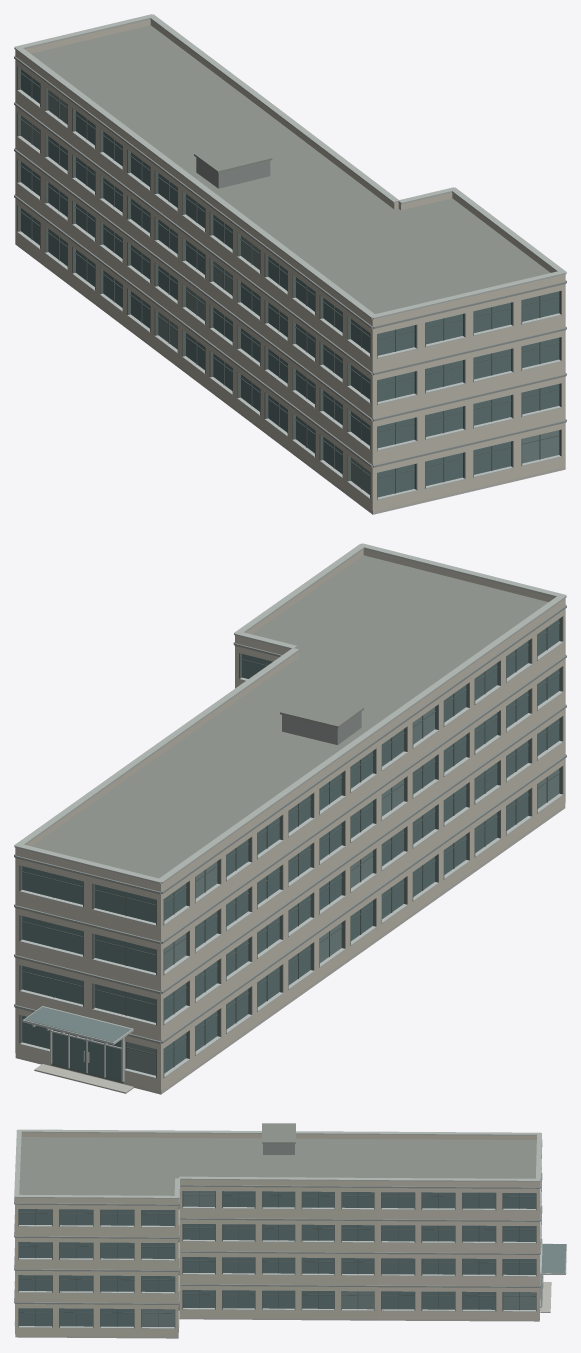
Rendered from mapped_290097998.glb.
3 renders of one model, top to bottom at view 1: azimuth 30°, elevation 25°; view 2: azimuth 150°, elevation 25°; view 3: azimuth 270°, elevation 25°, orthographic. The views are drawn at different scales.
Visible parts, largest first — view 1: mapped_290097998_ServiceWarm, mapped_290097998_FacultyRoof, mapped_290097998_WindowGlass, mapped_290097998_FacultyDarkPanel, mapped_290097998_WindowReveal, mapped_290097998_WindowAluminium, mapped_290097998_Teaching5TileJoint, mapped_290097998_WindowRubber, mapped_290097998_WindowGlassLight, mapped_290097998_EntryStone; view 2: mapped_290097998_ServiceWarm, mapped_290097998_FacultyRoof, mapped_290097998_WindowGlass, mapped_290097998_FacultyDarkPanel, mapped_290097998_WindowAluminium, mapped_290097998_Teaching5TileJoint, mapped_290097998_WindowReveal, mapped_290097998_WindowGlassLight, mapped_290097998_WindowRubber, mapped_290097998_EntryStone; view 3: mapped_290097998_ServiceWarm, mapped_290097998_WindowGlass, mapped_290097998_FacultyRoof, mapped_290097998_FacultyDarkPanel, mapped_290097998_WindowAluminium, mapped_290097998_Teaching5TileJoint, mapped_290097998_WindowRubber, mapped_290097998_WindowGlassLight, mapped_290097998_WindowReveal, mapped_290097998_EntryStone.
Part boxes in pixels (x1=…): mapped_290097998_ServiceWarm: x1=15, y1=19, x2=565, y2=512; mapped_290097998_FacultyRoof: x1=31, y1=25, x2=550, y2=313; mapped_290097998_WindowGlass: x1=21, y1=69, x2=559, y2=497; mapped_290097998_FacultyDarkPanel: x1=14, y1=56, x2=566, y2=467; mapped_290097998_WindowReveal: x1=17, y1=66, x2=561, y2=499; mapped_290097998_WindowAluminium: x1=17, y1=89, x2=561, y2=500; mapped_290097998_Teaching5TileJoint: x1=14, y1=14, x2=566, y2=319; mapped_290097998_WindowRubber: x1=20, y1=72, x2=559, y2=493; mapped_290097998_WindowGlassLight: x1=21, y1=90, x2=559, y2=494; mapped_290097998_EntryStone: x1=15, y1=242, x2=565, y2=514; mapped_290097998_ServiceWarm: x1=15, y1=549, x2=565, y2=1091; mapped_290097998_FacultyRoof: x1=32, y1=555, x2=548, y2=878; mapped_290097998_WindowGlass: x1=22, y1=619, x2=559, y2=1080; mapped_290097998_FacultyDarkPanel: x1=14, y1=605, x2=566, y2=1043; mapped_290097998_WindowAluminium: x1=19, y1=641, x2=563, y2=1081; mapped_290097998_Teaching5TileJoint: x1=14, y1=543, x2=566, y2=883; mapped_290097998_WindowReveal: x1=19, y1=616, x2=563, y2=1083; mapped_290097998_WindowGlassLight: x1=24, y1=707, x2=559, y2=1075; mapped_290097998_WindowRubber: x1=22, y1=622, x2=560, y2=1068; mapped_290097998_EntryStone: x1=15, y1=806, x2=565, y2=1094; mapped_290097998_ServiceWarm: x1=15, y1=1132, x2=540, y2=1336; mapped_290097998_WindowGlass: x1=19, y1=1191, x2=535, y2=1326; mapped_290097998_FacultyRoof: x1=19, y1=1123, x2=536, y2=1195; mapped_290097998_FacultyDarkPanel: x1=14, y1=1140, x2=542, y2=1304; mapped_290097998_WindowAluminium: x1=14, y1=1170, x2=566, y2=1328; mapped_290097998_Teaching5TileJoint: x1=14, y1=1129, x2=541, y2=1198; mapped_290097998_WindowRubber: x1=19, y1=1191, x2=535, y2=1326; mapped_290097998_WindowGlassLight: x1=141, y1=1191, x2=566, y2=1326; mapped_290097998_WindowReveal: x1=18, y1=1191, x2=541, y2=1328; mapped_290097998_EntryStone: x1=15, y1=1282, x2=551, y2=1338.
Bounding box in the file's own units: 15.25 × 15.88 × 51.94.
